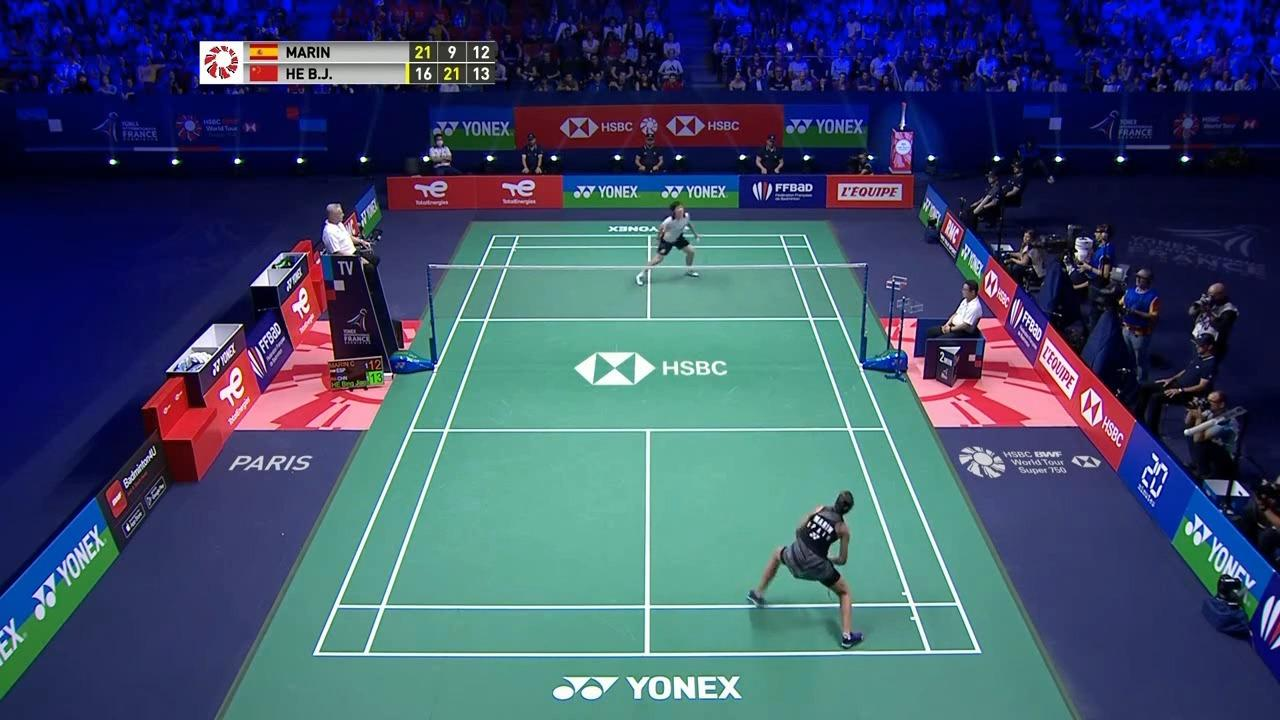shuttle: (785, 39, 798, 55)
